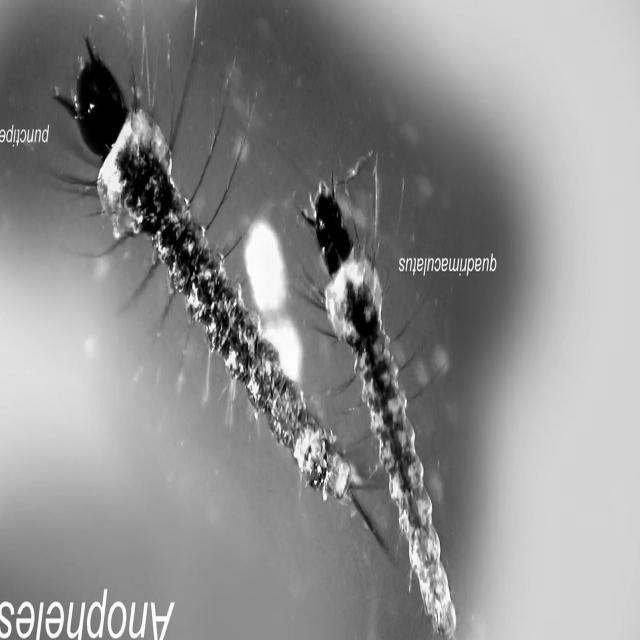larvas: (70, 59, 357, 488), (300, 156, 462, 632)
